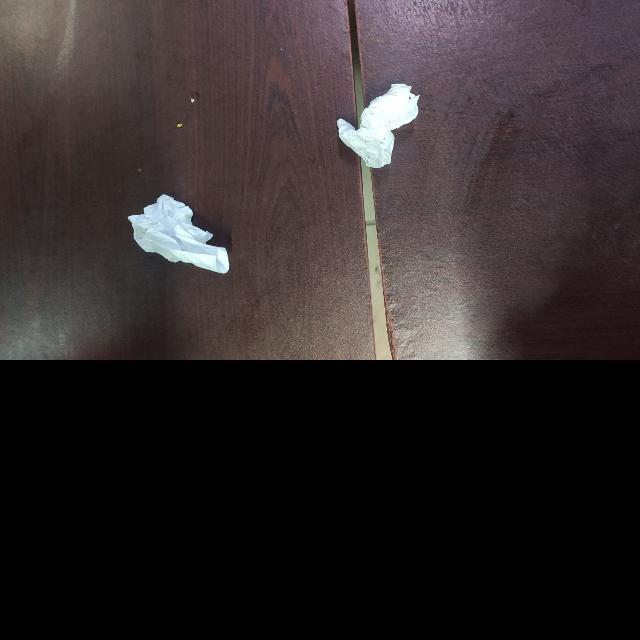kitchen paper: (130, 192, 229, 284), (340, 82, 422, 169)
